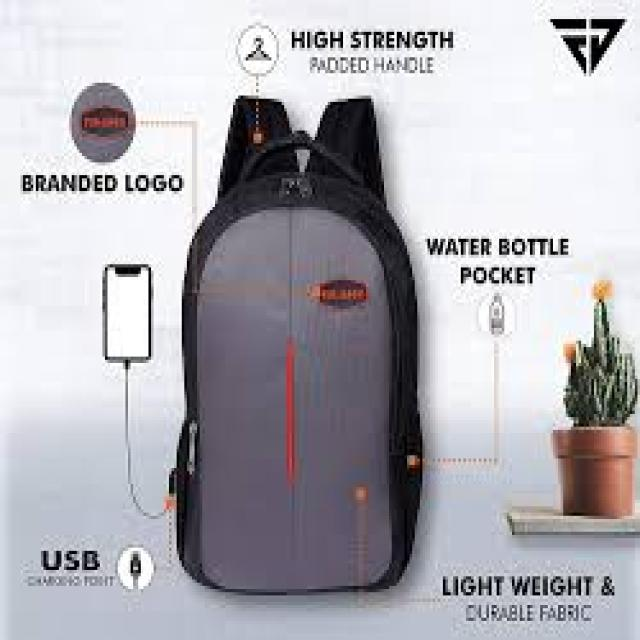backpack: (173, 94, 424, 597)
